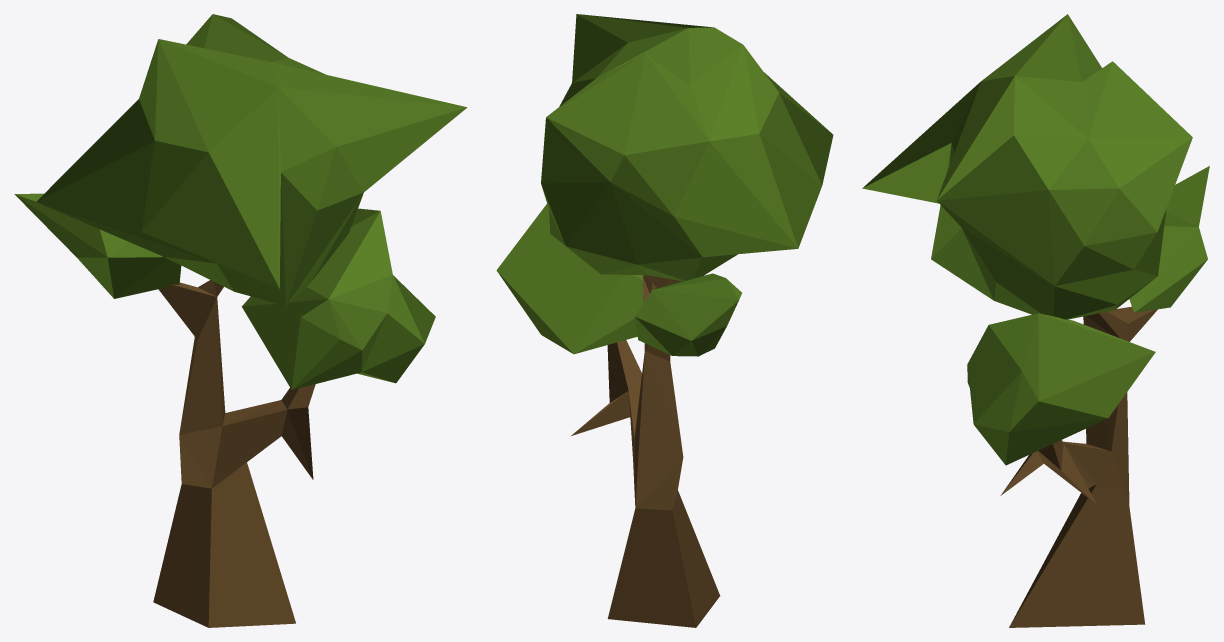
The model's file is MR_Tree.fbx.
The picture shows the model from 3 angles, left to right: view 1: azimuth 30°, elevation 25°; view 2: azimuth 150°, elevation 25°; view 3: azimuth 270°, elevation 25°; orthographic projection. The views are drawn at different scales.
Visible parts, largest first — view 1: Tree5; view 2: Tree5; view 3: Tree5.
Boxes of the visible parts, x1,y1,x2,y2 form: Tree5: (14,14,467,627); Tree5: (496,14,833,627); Tree5: (862,14,1209,627).
Size of the model in its own units: 13.36 by 22.31 by 12.47.
